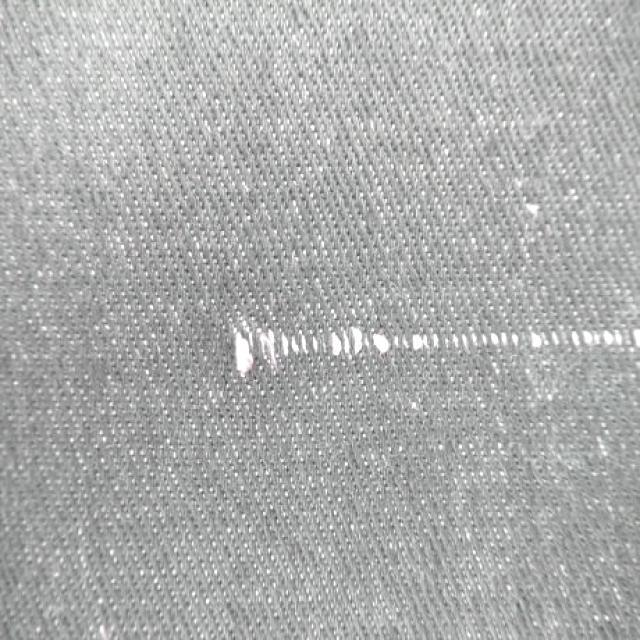Thread_other: (119, 262, 640, 492)
